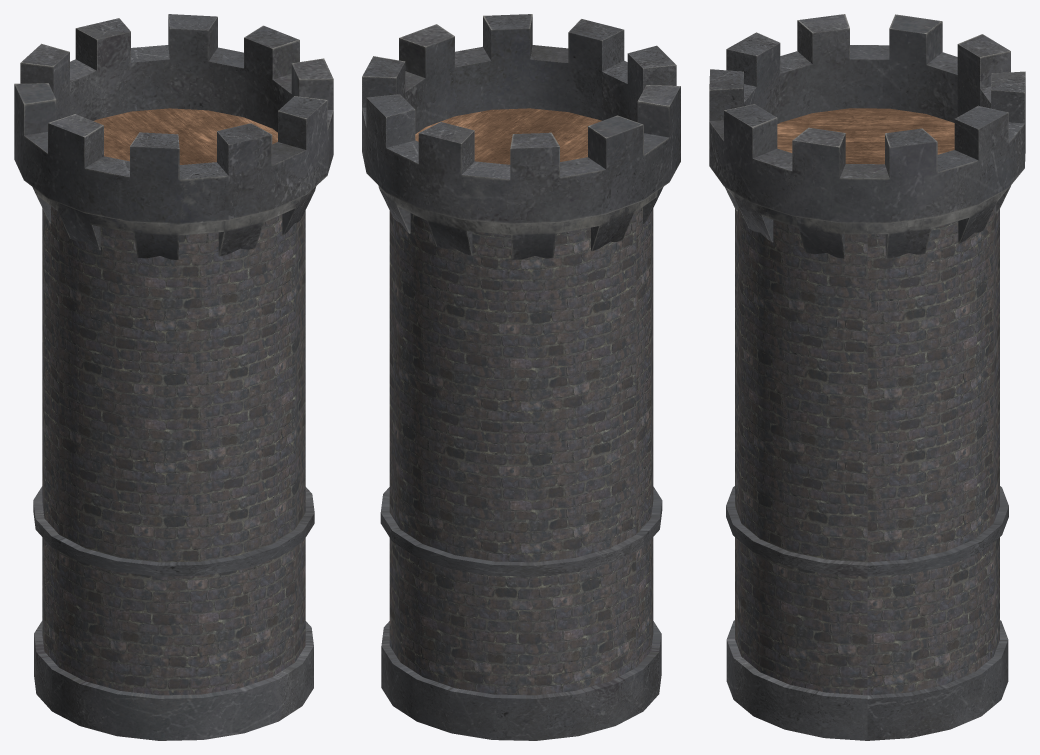
File: wall_round_tower_1.fbx
The picture shows the model from 3 angles, left to right: view 1: azimuth 30°, elevation 25°; view 2: azimuth 150°, elevation 25°; view 3: azimuth 270°, elevation 25°; orthographic projection.
Visible parts, largest first — view 1: Muralla3.059; view 2: Muralla3.059; view 3: Muralla3.059.
Boxes of the visible parts, x1=… form: Muralla3.059: x1=14, y1=14, x2=333, y2=740; Muralla3.059: x1=362, y1=14, x2=680, y2=740; Muralla3.059: x1=709, y1=14, x2=1025, y2=740.
Size of the model in its own units: 180 by 376 by 180.
Materials: 2 (2 with a texture image).
